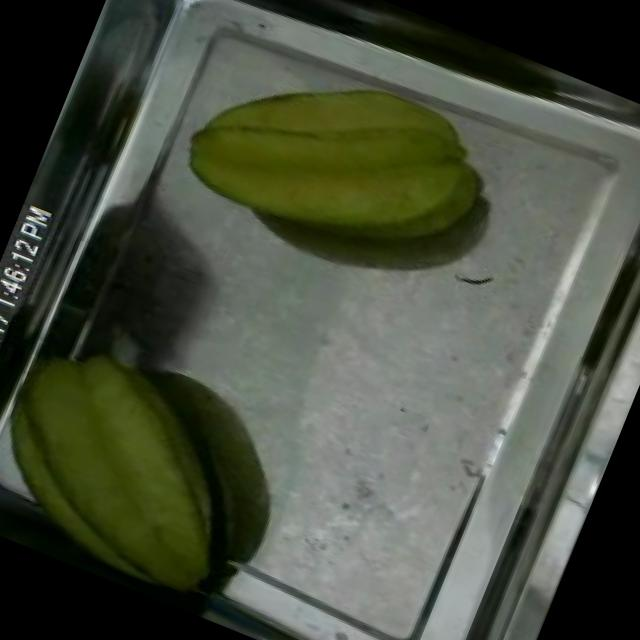fruit: (154, 12, 522, 304), (0, 305, 287, 617)
